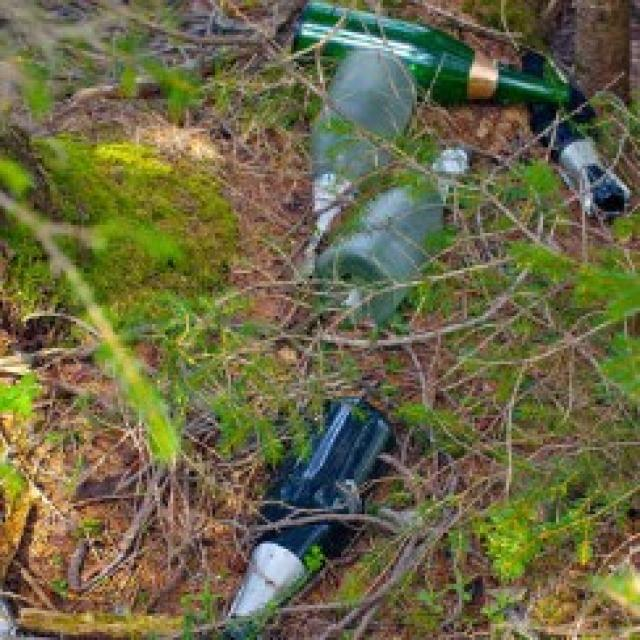electronic: (280, 3, 634, 335), (213, 386, 403, 640)
